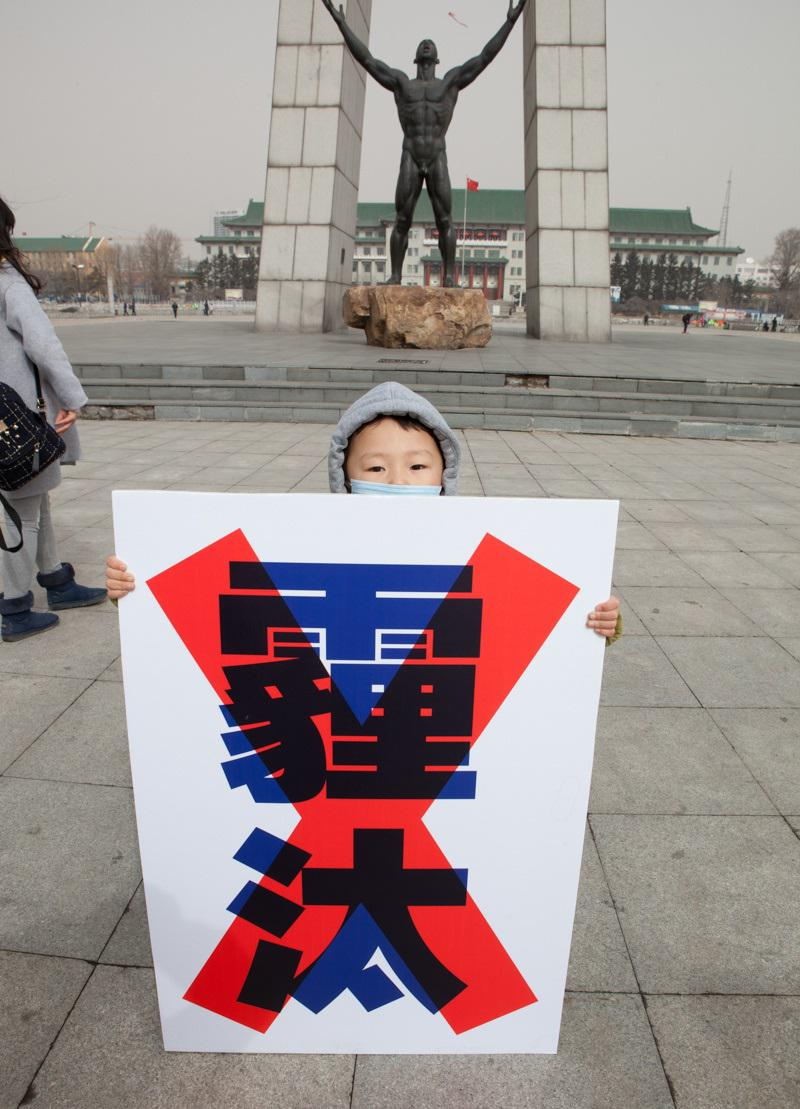WRONG: (349, 437, 447, 535)
